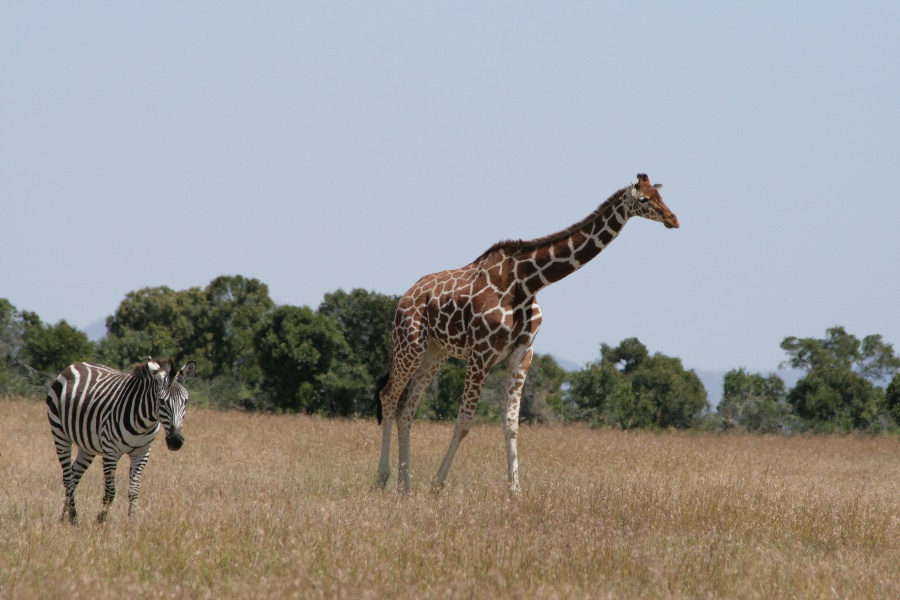giraffe: (365, 164, 684, 497)
